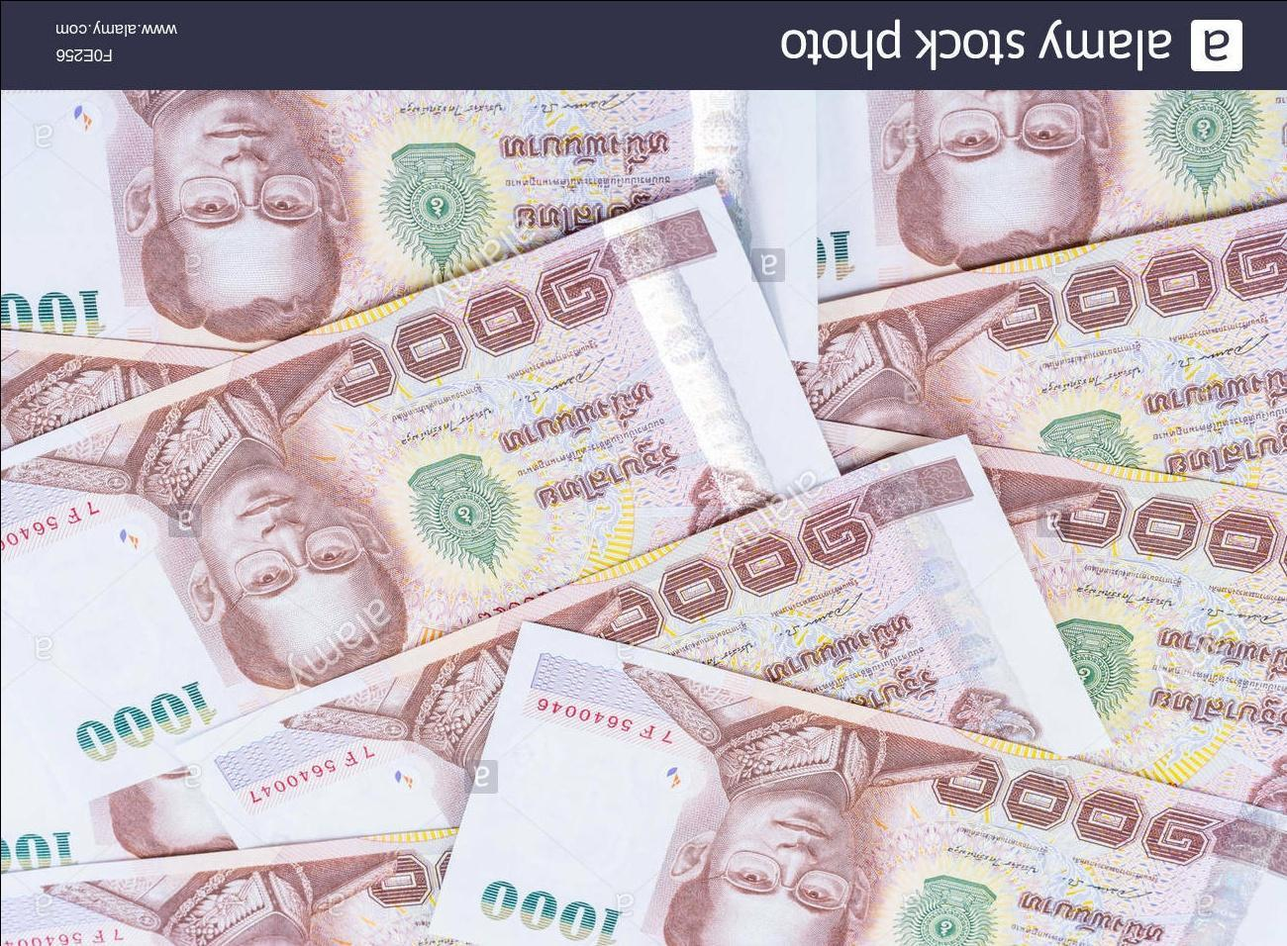1000BahtTai: (0, 179, 719, 763)
